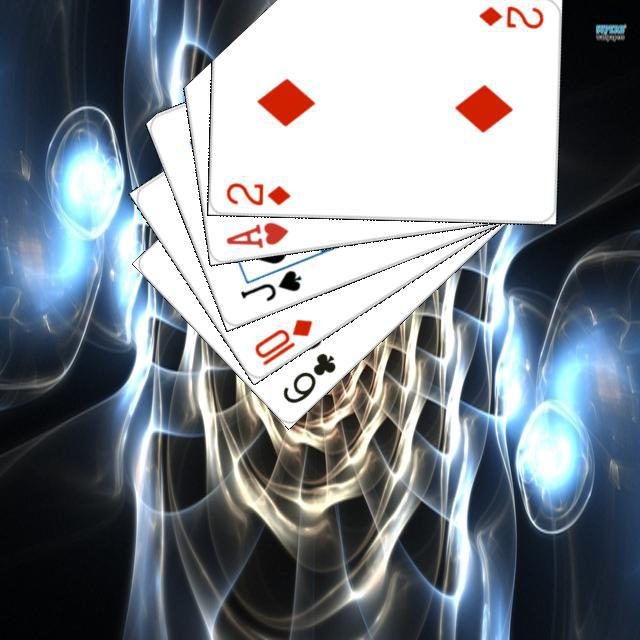10d: (249, 313, 315, 368)
2d: (221, 178, 292, 207), (474, 1, 545, 30)
6c: (277, 347, 338, 406)
Ah: (221, 217, 290, 250)
Js: (235, 264, 303, 303)
